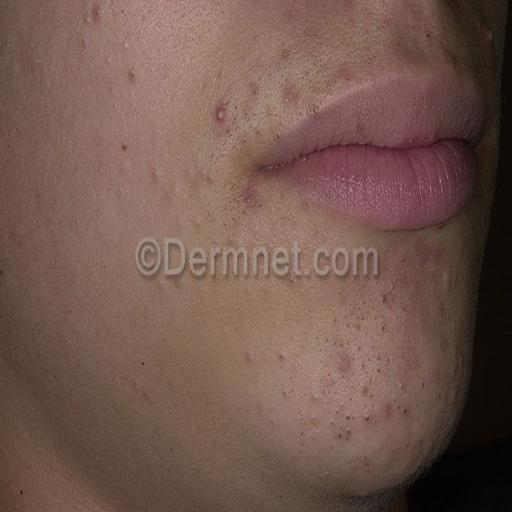Skin_Lesion: (415, 228, 448, 284), (372, 386, 407, 431), (205, 84, 228, 129), (383, 279, 405, 325), (283, 66, 301, 117), (239, 184, 263, 222), (398, 343, 425, 376), (81, 0, 107, 33), (122, 60, 147, 87), (418, 24, 442, 52), (330, 346, 352, 376), (481, 20, 497, 59), (446, 348, 463, 384), (274, 38, 294, 65), (307, 100, 329, 117)
